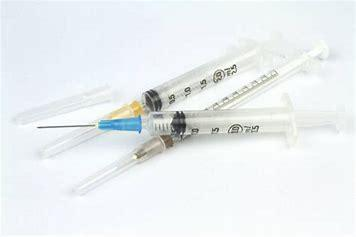Syringe: (19, 94, 356, 156)
